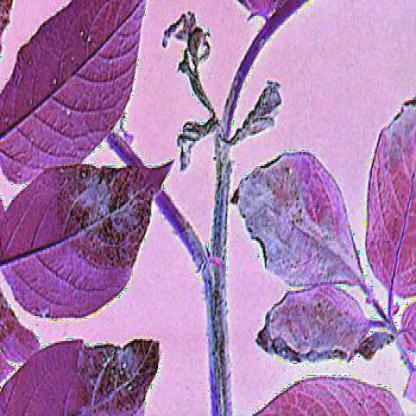Potato leaf: (222, 145, 376, 308), (256, 280, 376, 360), (370, 91, 414, 300)
